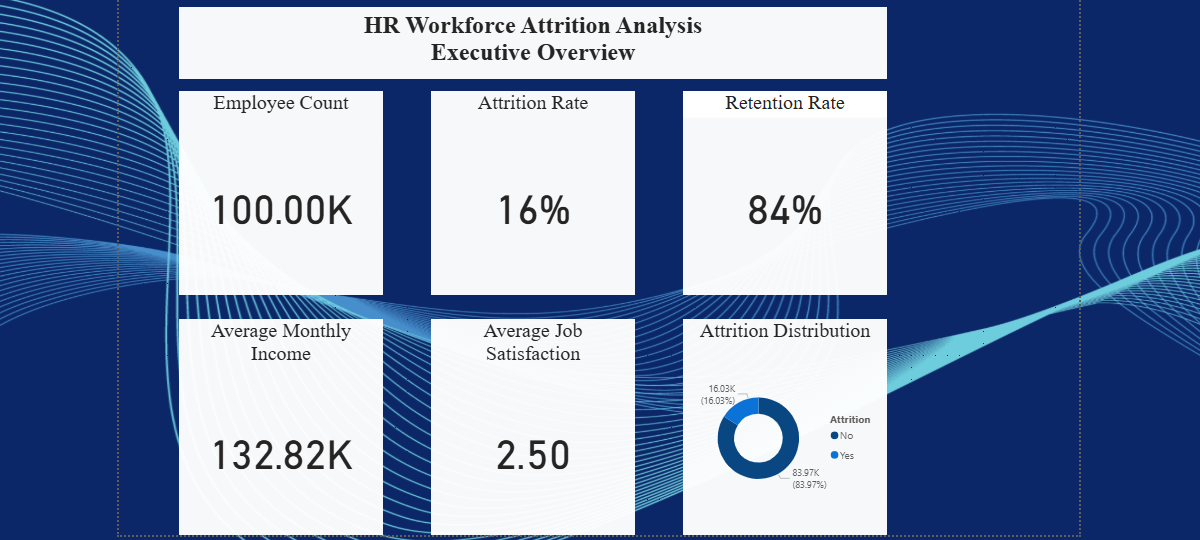

This screenshot's page, from the dashboard's own definition file:
{"tool":"powerbi","page":{"name":"Executive Overview","canvas":[1280,720],"ordinal":0},"visuals":[{"type":"card","title":"Employee Count","fields":{"Values":["Count(Professional_IBM_HR_Attrition_100K.EmployeeNumber)"]},"box":[80,128,272,272],"z":0},{"type":"card","title":"Attrition Rate","fields":{"Values":["Professional_IBM_HR_Attrition_100K.Attrition Rate"]},"box":[416,128,272,272],"z":1000},{"type":"card","title":"Retention Rate","fields":{"Values":["Professional_IBM_HR_Attrition_100K.Retention Rate"]},"box":[752,128,272,272],"z":2000},{"type":"card","title":"Average Monthly Income","fields":{"Values":["Avg(Professional_IBM_HR_Attrition_100K.MonthlyIncome)"]},"box":[80,432,272,288],"z":3000},{"type":"card","title":"Average  Job Satisfaction","fields":{"Values":["Avg(Professional_IBM_HR_Attrition_100K.JobSatisfaction)"]},"box":[416,432,272,288],"z":4000},{"type":"donutChart","title":"Attrition Distribution","fields":{"Category":["Professional_IBM_HR_Attrition_100K.Attrition"],"Y":["CountNonNull(Professional_IBM_HR_Attrition_100K.EmployeeNumber)"]},"box":[752,432,272,288],"z":5000},{"type":"textbox","box":[80,16,944,96],"z":6000}]}

Visuals, with their boxes in screenshot pixels (x1, y1, x2, y2):
"Employee Count" card: [x1=181, y1=89, x2=383, y2=290]
"Attrition Rate" card: [x1=430, y1=89, x2=631, y2=290]
"Retention Rate" card: [x1=679, y1=89, x2=880, y2=290]
"Average Monthly Income" card: [x1=181, y1=314, x2=383, y2=527]
"Average  Job Satisfaction" card: [x1=430, y1=314, x2=631, y2=527]
"Attrition Distribution" donutChart: [x1=679, y1=314, x2=880, y2=527]
textbox: [x1=181, y1=6, x2=880, y2=77]
